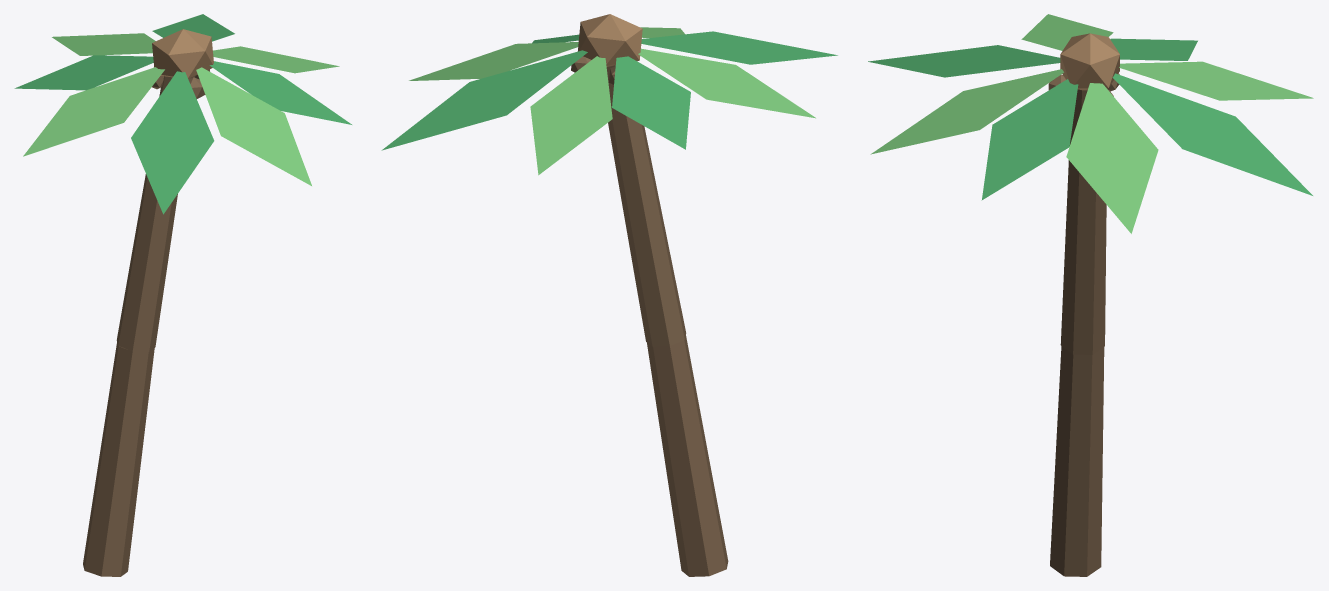
File: palm_tree_02.glb
The picture shows the model from 3 angles, left to right: view 1: azimuth 30°, elevation 25°; view 2: azimuth 150°, elevation 25°; view 3: azimuth 270°, elevation 25°; orthographic projection. The views are drawn at different scales.
Visible parts, largest first — view 1: palm_tree_02_trunk_segment_1, palm_tree_02_frond_6, palm_tree_02_trunk_segment_2, palm_tree_02_frond_7, palm_tree_02_frond_5, palm_tree_02_frond_8, palm_tree_02_frond_4, palm_tree_02_crown, palm_tree_02_frond_3, palm_tree_02_frond_1, palm_tree_02_frond_2; view 2: palm_tree_02_trunk_segment_1, palm_tree_02_trunk_segment_2, palm_tree_02_frond_2, palm_tree_02_frond_3, palm_tree_02_frond_4, palm_tree_02_frond_5, palm_tree_02_frond_6, palm_tree_02_frond_1, palm_tree_02_crown; view 3: palm_tree_02_trunk_segment_1, palm_tree_02_frond_1, palm_tree_02_trunk_segment_2, palm_tree_02_frond_2, palm_tree_02_frond_8, palm_tree_02_frond_7, palm_tree_02_frond_3, palm_tree_02_frond_6, palm_tree_02_crown, palm_tree_02_frond_4, palm_tree_02_frond_5.
Part boxes in pixels (x1,y1,x2,y2): palm_tree_02_trunk_segment_1: (83,342,154,576); palm_tree_02_frond_6: (131,71,214,214); palm_tree_02_trunk_segment_2: (116,76,195,351); palm_tree_02_frond_7: (196,67,311,185); palm_tree_02_frond_5: (23,67,164,156); palm_tree_02_frond_8: (209,61,351,124); palm_tree_02_frond_4: (14,55,153,90); palm_tree_02_crown: (152,29,213,78); palm_tree_02_frond_3: (52,33,155,55); palm_tree_02_frond_1: (213,46,339,73); palm_tree_02_frond_2: (152,14,234,41); palm_tree_02_trunk_segment_1: (647,335,728,576); palm_tree_02_trunk_segment_2: (606,65,686,346); palm_tree_02_frond_2: (381,50,587,150); palm_tree_02_frond_3: (530,56,612,175); palm_tree_02_frond_4: (612,56,690,149); palm_tree_02_frond_5: (638,48,815,118); palm_tree_02_frond_6: (641,31,837,64); palm_tree_02_frond_1: (409,42,578,80); palm_tree_02_crown: (578,14,642,66); palm_tree_02_trunk_segment_1: (1050,346,1104,576); palm_tree_02_frond_1: (1066,83,1158,233); palm_tree_02_trunk_segment_2: (1060,88,1107,354); palm_tree_02_frond_2: (1112,73,1312,195); palm_tree_02_frond_8: (981,79,1078,200); palm_tree_02_frond_7: (870,69,1063,154); palm_tree_02_frond_3: (1119,61,1313,100); palm_tree_02_frond_6: (868,45,1060,77); palm_tree_02_crown: (1060,33,1119,90); palm_tree_02_frond_4: (1110,38,1197,60); palm_tree_02_frond_5: (1021,14,1113,50).
Size of the model in its own units: 3.13 by 4.37 by 3.06.
